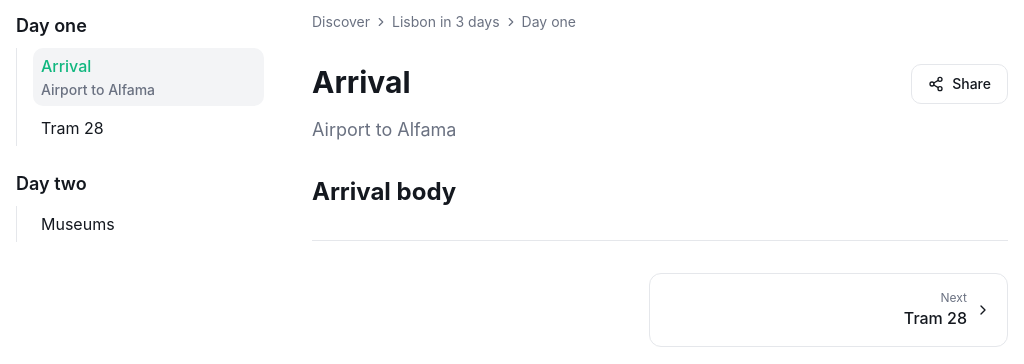
Scenario: PageView: the outline is revalidated on every page visit (same collection) › an outline that fails to revalidate on the next visit shows the error state, never the old outline
The width and height of the screenshot is (1024, 364).
Click the link "Museums" at [78, 224], box 41,214 -> 115,234
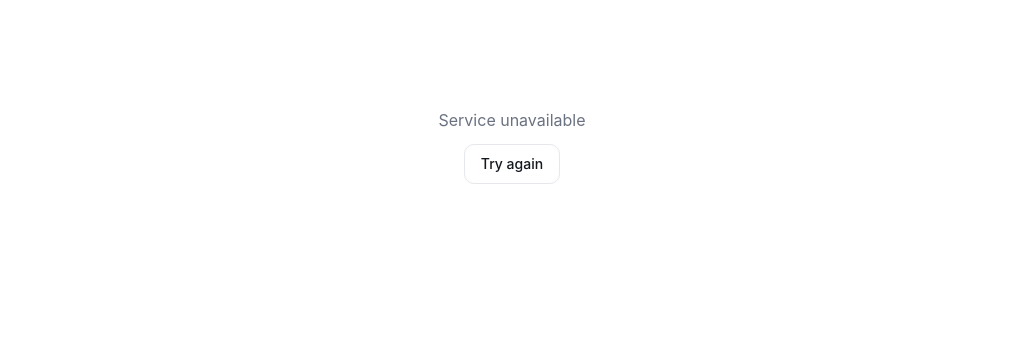
Expected: the message shows "Service unavailable", 438,110 -> 586,130
